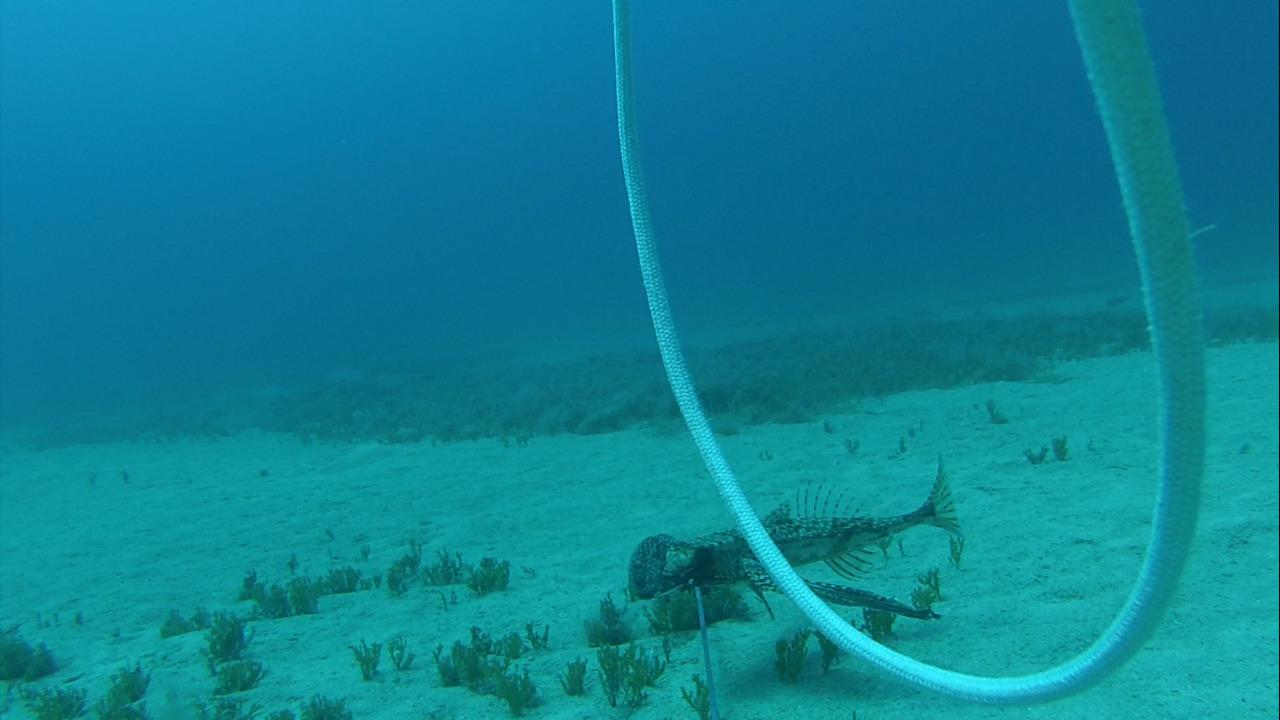dactylopterus: (626, 458, 977, 626)
